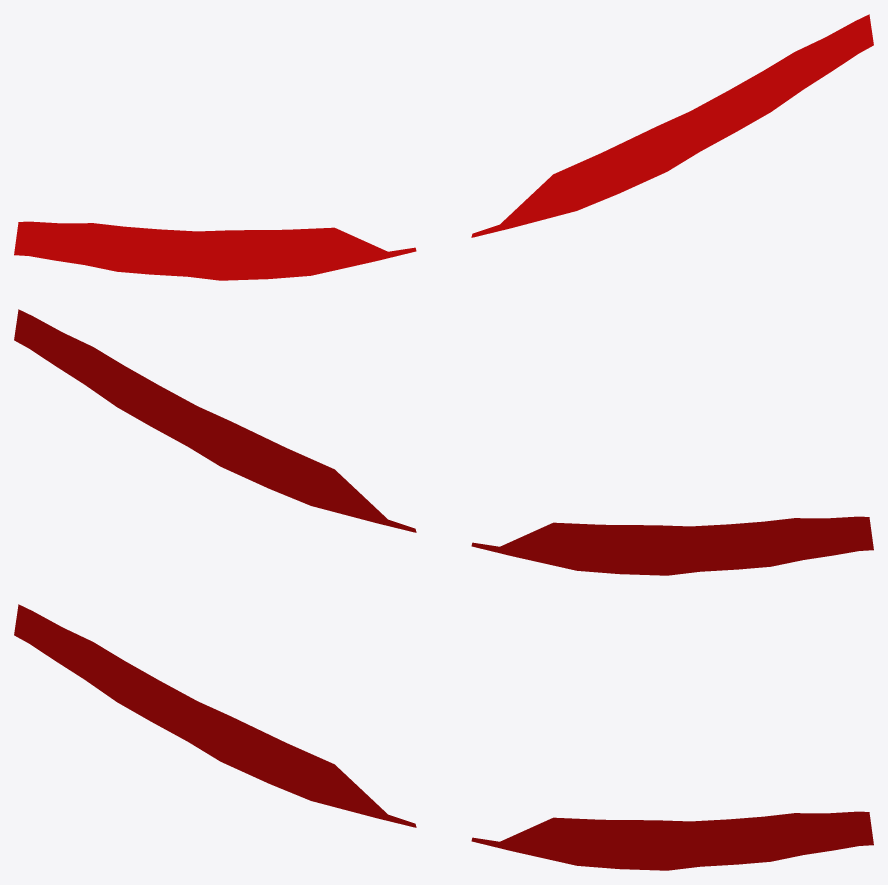
Rendered from frame69.fbx.
The picture shows the model from 3 angles, top to bottom: view 1: azimuth 30°, elevation 25°; view 2: azimuth 150°, elevation 25°; view 3: azimuth 330°, elevation 25°; orthographic projection.
Visible parts, largest first — view 1: MaterialLayer; view 2: MaterialLayer; view 3: MaterialLayer.
Part boxes in pixels (bbox=[...]): MaterialLayer: bbox=[14, 14, 873, 280]; MaterialLayer: bbox=[14, 309, 873, 575]; MaterialLayer: bbox=[14, 604, 873, 870].
Size of the model in its own units: 1276 by 180 by 1.06e-07.
